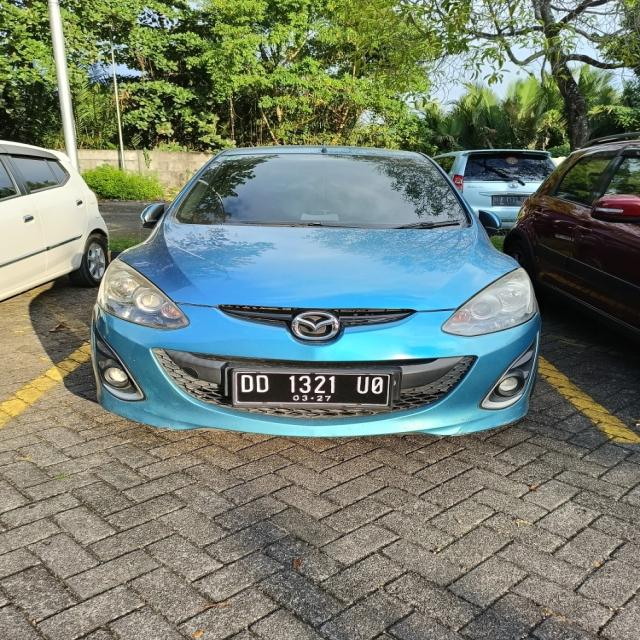plates: (228, 360, 395, 408)
